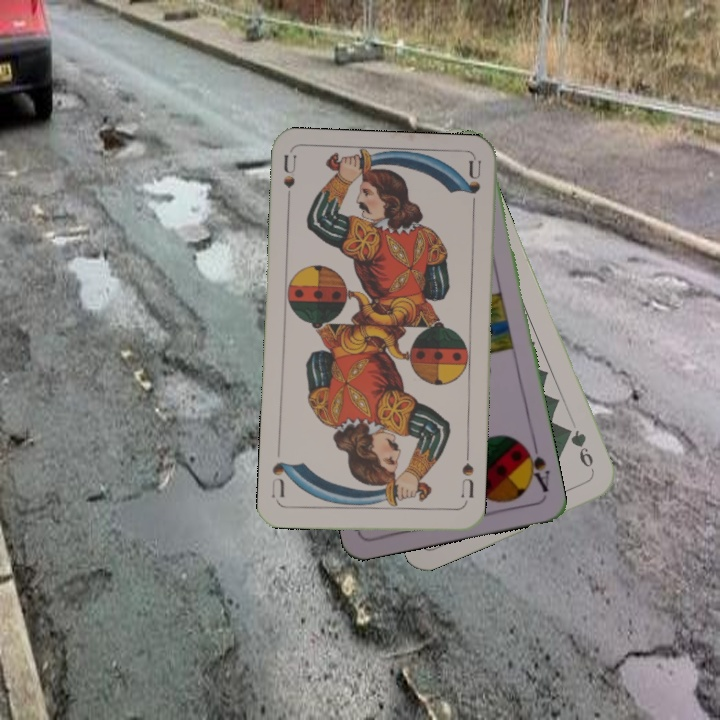G9: (561, 423, 597, 475)
SA: (519, 438, 552, 495)
SU: (279, 152, 299, 212), (457, 450, 477, 500)
